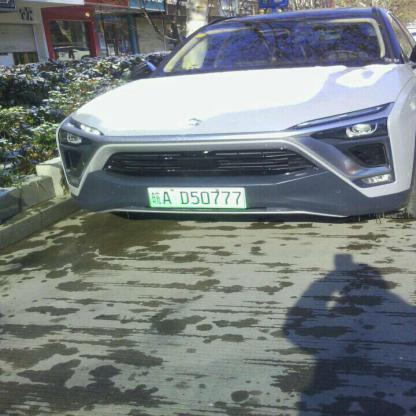lp: (147, 189, 245, 206)
